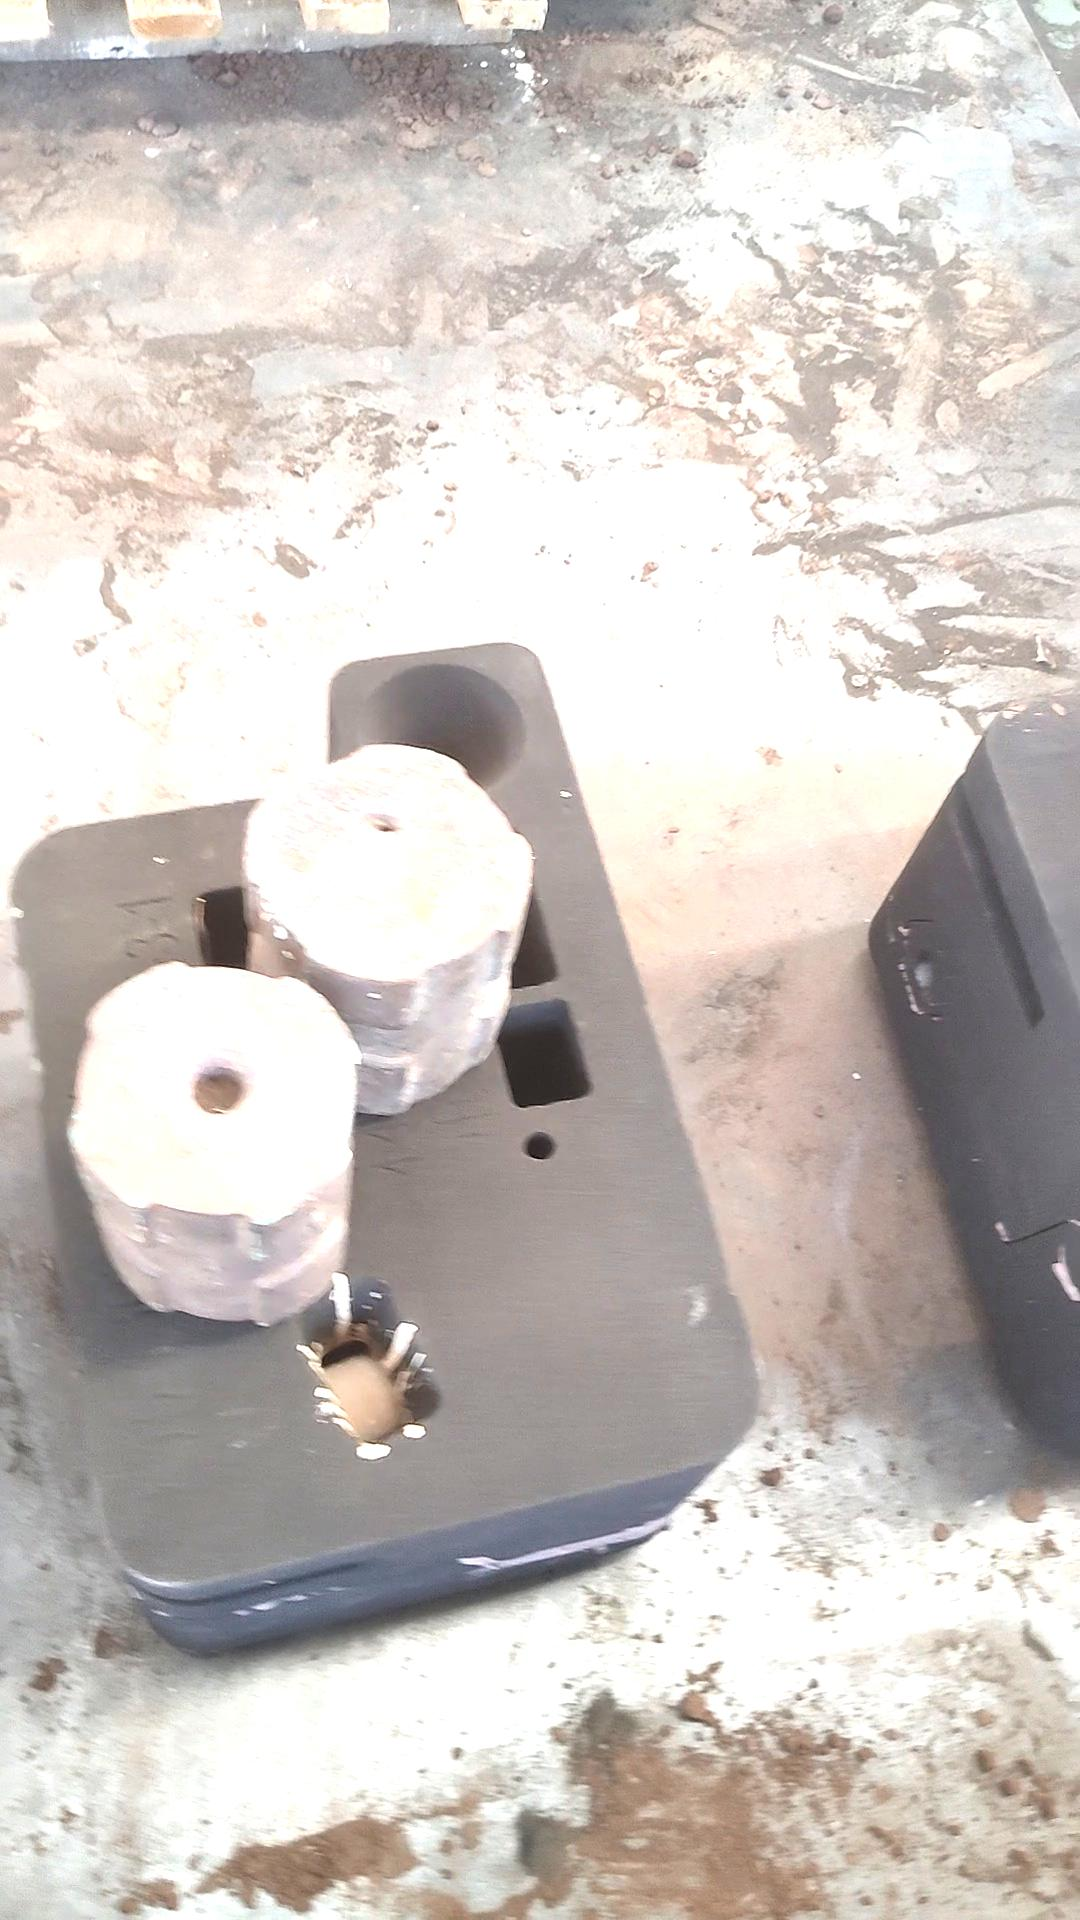pouring hole: (353, 663, 527, 798)
